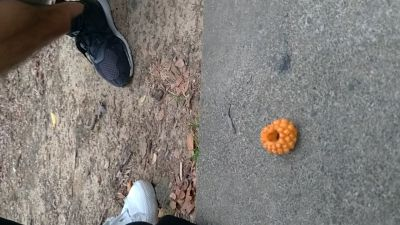eggs: (259, 120, 297, 155)
